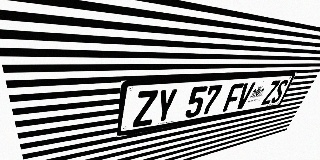5: (184, 86, 208, 119)
7: (200, 85, 223, 116)
F: (222, 83, 244, 112)
S: (270, 79, 289, 104)
V: (234, 82, 256, 110)
Y: (153, 88, 178, 124)
Z: (133, 90, 158, 128), (261, 80, 281, 105)
